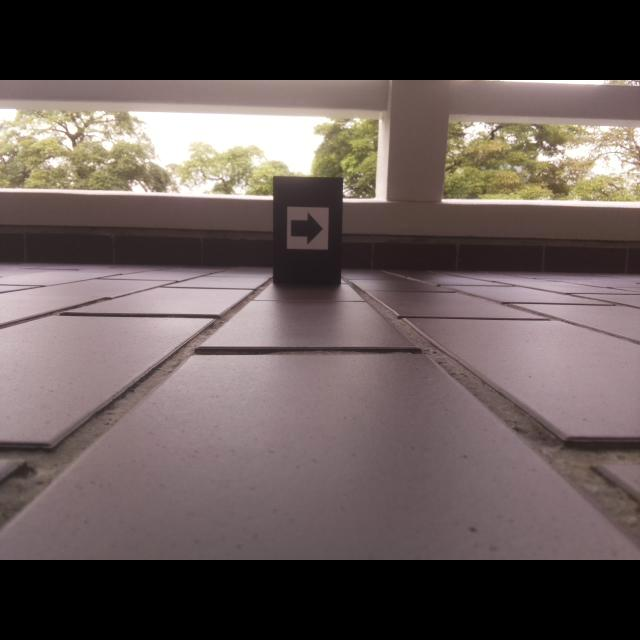RIGHT: (290, 211, 325, 246)
